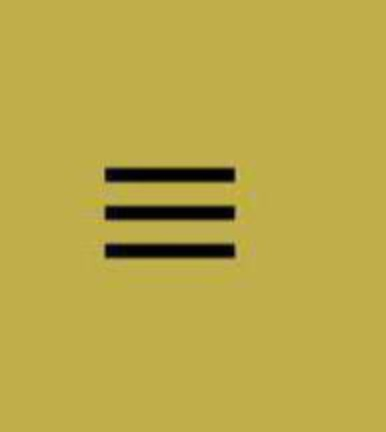ImgButton: (1, 1, 385, 431)
